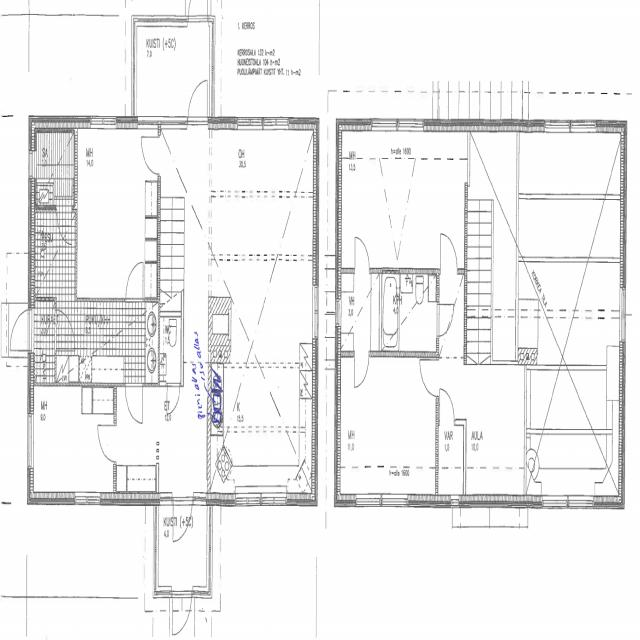door: (171, 582, 192, 640), (8, 308, 36, 351), (187, 71, 207, 130), (173, 490, 193, 548), (54, 309, 75, 349), (95, 423, 116, 462), (125, 258, 143, 302), (140, 136, 160, 174), (440, 231, 457, 275), (419, 359, 439, 395), (56, 204, 72, 246), (126, 381, 142, 423), (439, 386, 455, 426), (436, 303, 454, 336), (354, 236, 369, 274), (354, 351, 369, 387), (188, 0, 208, 26), (166, 380, 180, 415)
